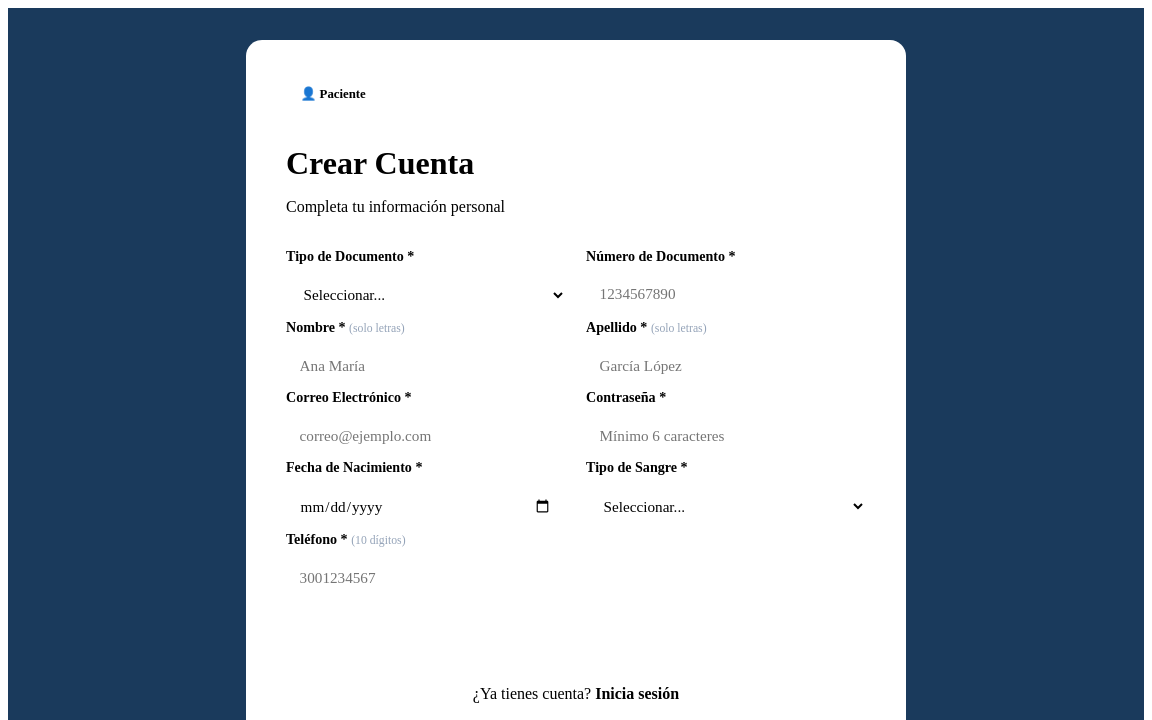
Test: RegistroPage — comportamiento de los campos › el campo de teléfono solo acepta números
Type "300abc456" into the field with placeholder "3001234567".
click(576, 578); type("300abc456")  # box [286,559,866,598]
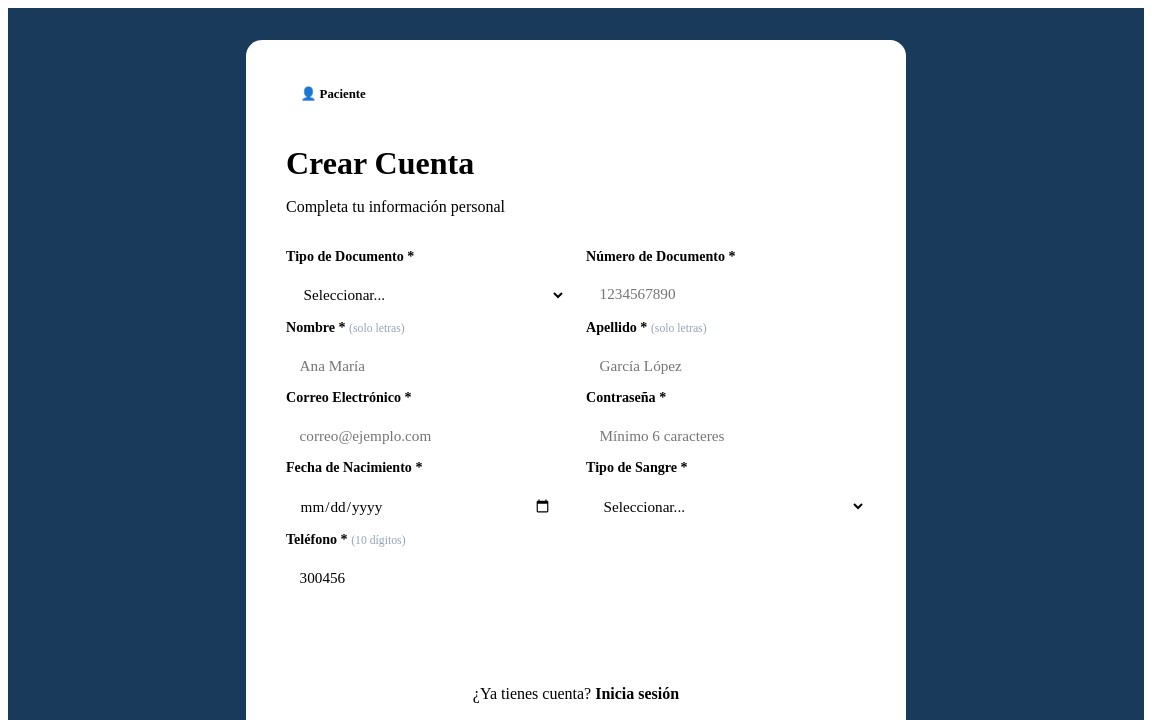
Check: the field with placeholder "3001234567" holds "300456", box [286,559,866,598]
